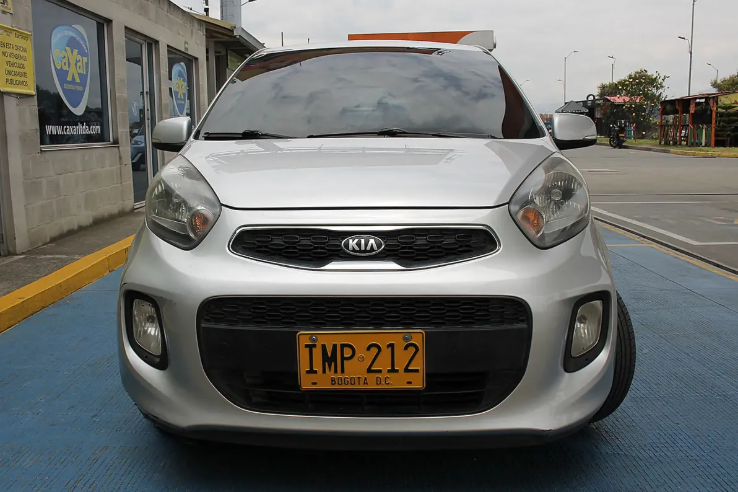placa: (297, 333, 425, 388)
